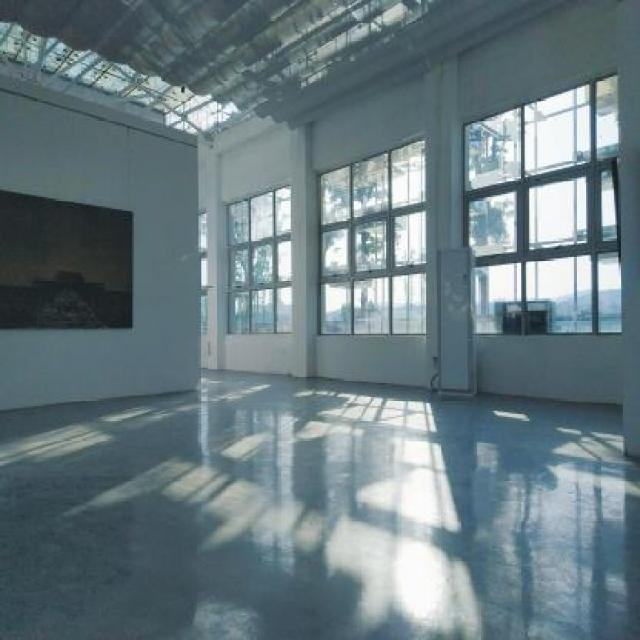Floor: (1, 368, 640, 638)
